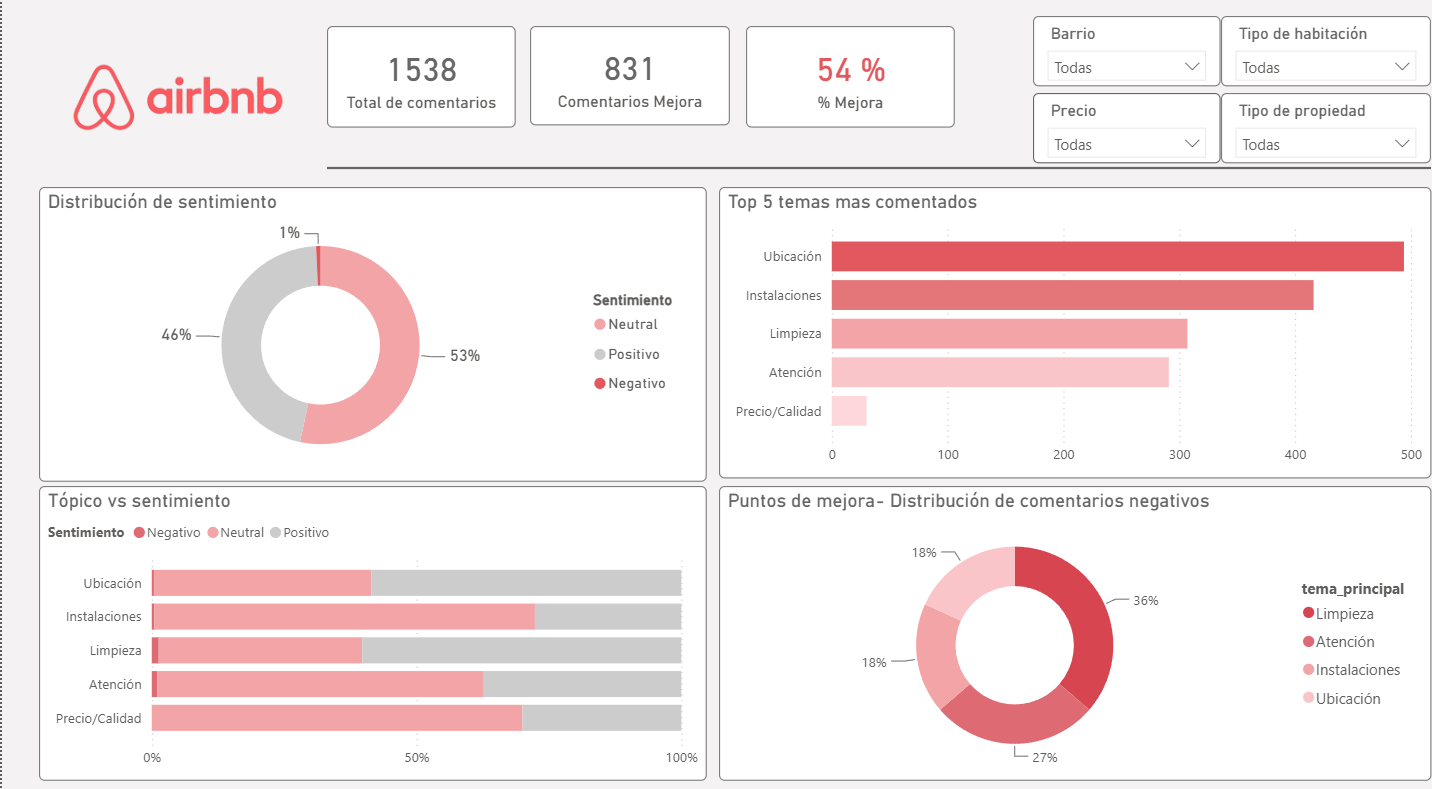

This screenshot's page, from the dashboard's own definition file:
{"tool":"powerbi","page":{"name":"VOC","canvas":[1280,720],"ordinal":1},"visuals":[{"type":"slicer","fields":{"Values":["airbnb_limpio (1).barrio"]},"box":[923.3,20.6,168.4,62.7],"z":0},{"type":"slicer","fields":{"Values":["airbnb_limpio (1).tipo_habitacion"]},"box":[1091.6,20.6,188.1,62.7],"z":1000},{"type":"slicer","fields":{"Values":["airbnb_limpio (1).tipo_propiedad"]},"box":[1091.6,89.6,188.1,62.7],"z":2000},{"type":"slicer","fields":{"Values":["airbnb_limpio (1).precio"]},"box":[923.3,89.6,168.4,62.7],"z":3000},{"type":"donutChart","title":"Distribución de sentimiento","fields":{"Category":["airbnb_sentimientos_transformers (2).sentimiento_etiqueta"],"Y":["CountNonNull(airbnb_sentimientos_transformers (2).id)"]},"box":[33.1,173.7,598.2,264.2],"z":4000},{"type":"card","fields":{"Values":["airbnb_sentimientos.% Mejora"]},"box":[666.3,29.6,187.2,91.3],"z":5000},{"type":"card","fields":{"Values":["airbnb_sentimientos.Comentarios Mejora"]},"box":[472.8,29.6,179.1,88.7],"z":6000},{"type":"card","fields":{"Values":["CountNonNull(airbnb_sentimientos.id)"]},"box":[291,29.6,169.3,91.3],"z":7000},{"type":"clusteredBarChart","title":"Top 5 temas  mas comentados","fields":{"Category":["airbnb_sentimientos_transformers (2).tema_principal"],"Y":["CountNonNull(airbnb_sentimientos_transformers (2).id)"]},"box":[642.1,173.7,637.6,260.6],"z":8000},{"type":"hundredPercentStackedBarChart","title":"Tópico vs sentimiento","fields":{"Category":["airbnb_sentimientos_transformers (2).tema_principal"],"Series":["airbnb_sentimientos_transformers (2).sentimiento_etiqueta"],"Y":["CountNonNull(airbnb_sentimientos_transformers (2).id)"]},"box":[33.1,441.5,598.2,264.2],"z":9000},{"type":"image","box":[33.1,0,249,187.2],"z":10000},{"type":"shape","box":[291,152.2,988.7,9],"z":11000},{"type":"donutChart","title":"Puntos de mejora- Distribución de comentarios negativos","fields":{"Category":["airbnb_sentimientos.tema_principal"],"Y":["CountNonNull(airbnb_sentimientos.sentimiento_etiqueta)"]},"box":[642.1,441.5,637.6,264.2],"z":12000}]}

Visuals, with their boxes in screenshot pixels (x1, y1, x2, y2), scaled from the page's 1280x720 canvas onto the 1432x789 screenshot:
slicer - airbnb_limpio (1).barrio: bbox=(1033, 23, 1221, 91)
slicer - airbnb_limpio (1).tipo_habitacion: bbox=(1221, 23, 1431, 91)
slicer - airbnb_limpio (1).tipo_propiedad: bbox=(1221, 98, 1431, 167)
slicer - airbnb_limpio (1).precio: bbox=(1033, 98, 1221, 167)
"Distribución de sentimiento" donutChart: bbox=(37, 190, 706, 480)
card - airbnb_sentimientos.% Mejora: bbox=(745, 32, 955, 132)
card - airbnb_sentimientos.Comentarios Mejora: bbox=(529, 32, 729, 130)
card - CountNonNull(airbnb_sentimientos.id): bbox=(326, 32, 515, 132)
"Top 5 temas  mas comentados" clusteredBarChart: bbox=(718, 190, 1431, 476)
"Tópico vs sentimiento" hundredPercentStackedBarChart: bbox=(37, 484, 706, 773)
image: bbox=(37, 0, 316, 205)
shape: bbox=(326, 167, 1431, 177)
"Puntos de mejora- Distribución de comentarios negativos" donutChart: bbox=(718, 484, 1431, 773)
